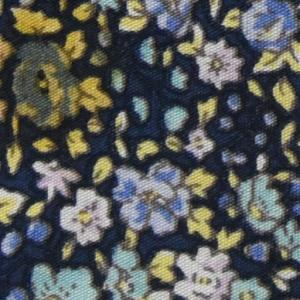Oil Stain: (1, 1, 113, 153)
